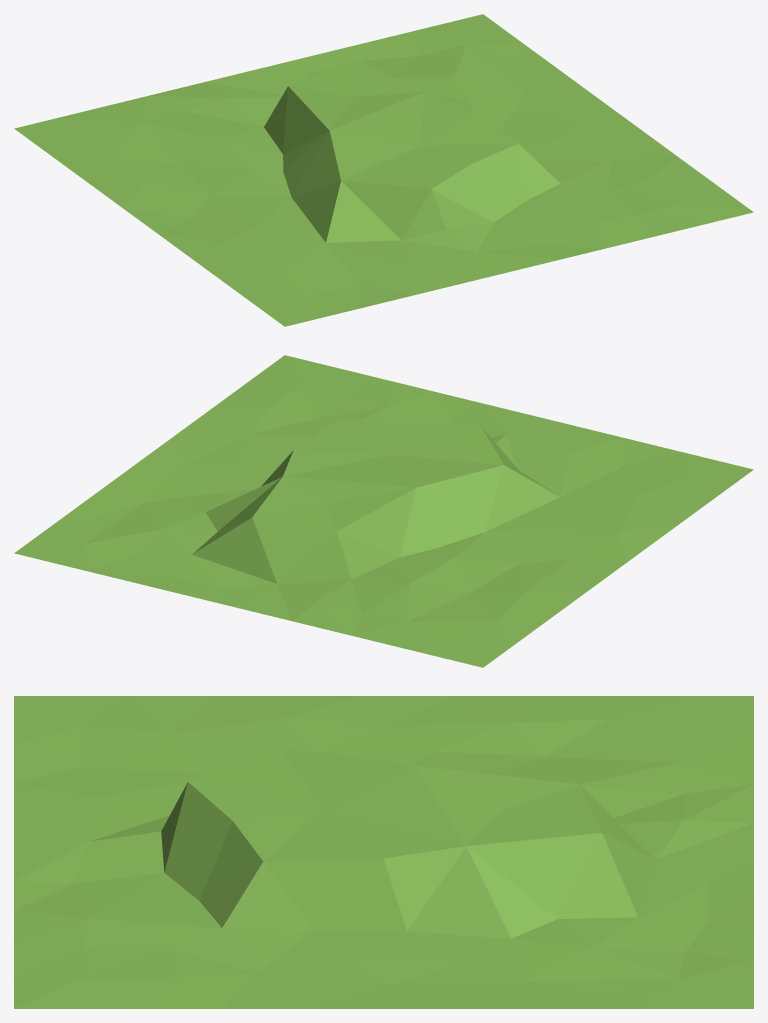
File: MT_Terrain_S_c_01.fbx
3 renders of one model, top to bottom at view 1: azimuth 30°, elevation 25°; view 2: azimuth 150°, elevation 25°; view 3: azimuth 270°, elevation 25°, orthographic. The views are drawn at different scales.
Visible parts, largest first — view 1: MT_Terrain_S_c_01; view 2: MT_Terrain_S_c_01; view 3: MT_Terrain_S_c_01.
Part boxes in pixels (bbox=[...]): MT_Terrain_S_c_01: bbox=[14, 14, 753, 326]; MT_Terrain_S_c_01: bbox=[14, 355, 753, 667]; MT_Terrain_S_c_01: bbox=[14, 696, 753, 1008].
Bounding box in the file's own units: 2500 × 225 × 2500.
